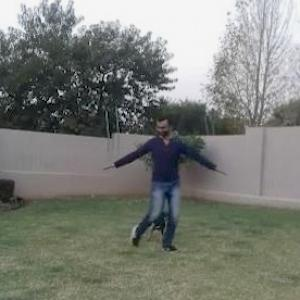land: (110, 124, 214, 246)
